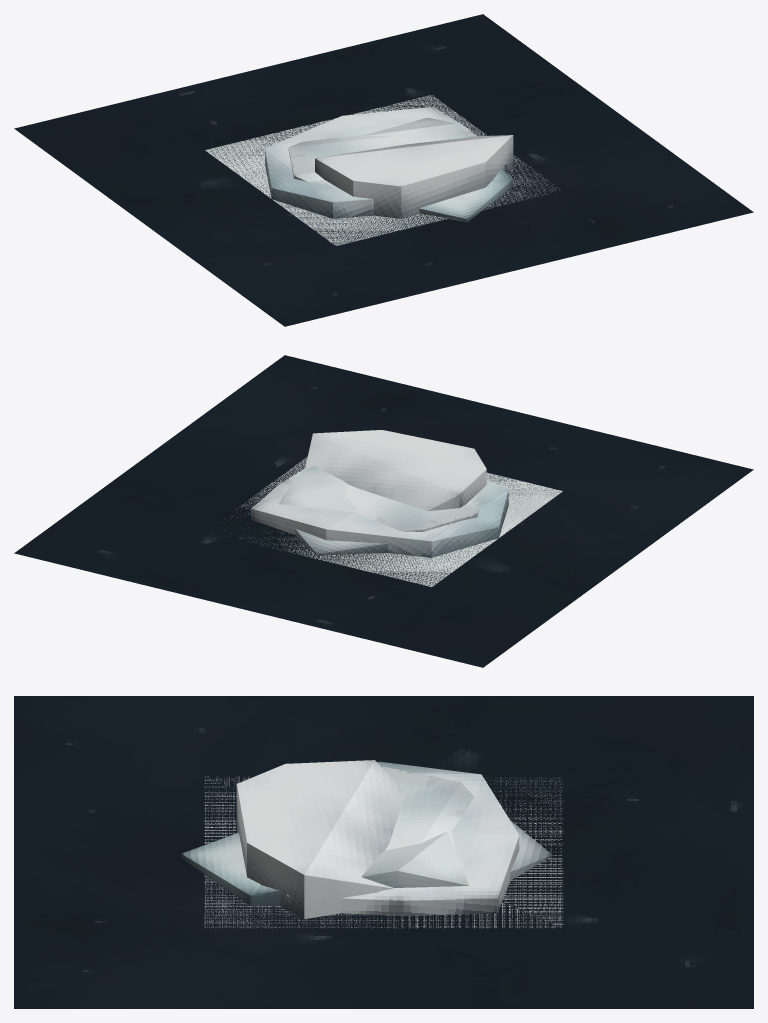
Rendered from IceWater.glb.
3 renders of one model, top to bottom at view 1: azimuth 30°, elevation 25°; view 2: azimuth 150°, elevation 25°; view 3: azimuth 270°, elevation 25°, orthographic. The views are drawn at different scales.
Visible parts, largest first — view 1: water, icePlatform3, ice, icePlatform2, icePlatform4, icePlatform1; view 2: water, icePlatform3, icePlatform2, ice, icePlatform4, icePlatform1; view 3: water, icePlatform3, icePlatform2, icePlatform4, ice, icePlatform1.
Boxes of the visible parts, x1,y1,x2,y2 form: water: [14, 14, 753, 326]; icePlatform3: [315, 135, 513, 218]; ice: [205, 95, 559, 245]; icePlatform2: [265, 106, 507, 218]; icePlatform4: [364, 117, 513, 222]; icePlatform1: [288, 130, 418, 181]; water: [14, 355, 753, 667]; icePlatform3: [305, 430, 486, 511]; icePlatform2: [251, 469, 508, 557]; ice: [236, 457, 562, 586]; icePlatform4: [278, 466, 387, 555]; icePlatform1: [333, 484, 479, 531]; water: [14, 696, 753, 1008]; icePlatform3: [236, 760, 405, 919]; icePlatform2: [286, 761, 519, 915]; icePlatform4: [181, 820, 552, 906]; ice: [204, 776, 563, 928]; icePlatform1: [381, 766, 473, 887].
Size of the model in its own units: 4.13 by 0.5152 by 4.13.
3 materials, 3 textured.
